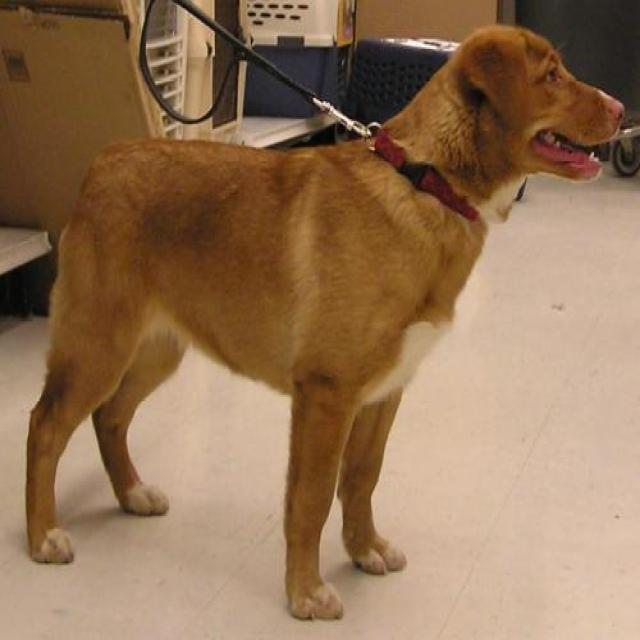Dogs: (23, 22, 625, 620)
